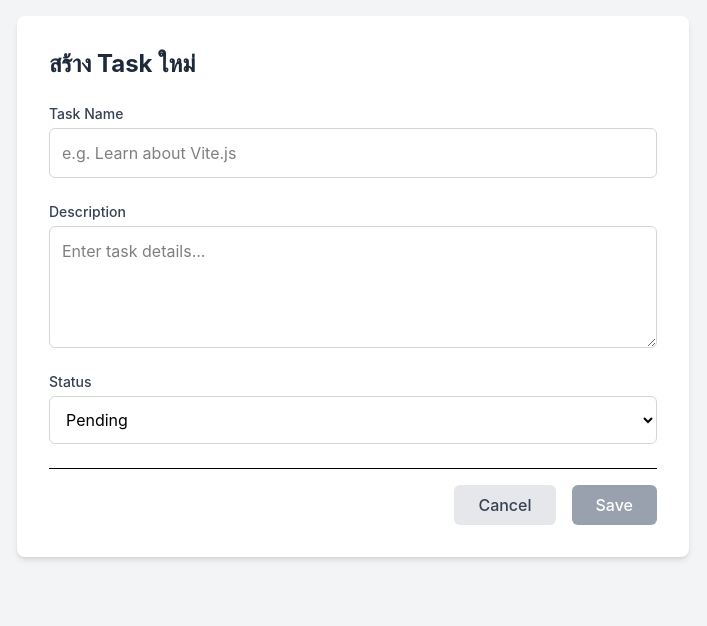
TaskFormPage Component › should display Error when data entered is too short
Type "ab" into the field with placeholder "e.g. Learn about Vite.js". click: point(353, 153)
box: top-left (49, 128), bottom-right (657, 178)
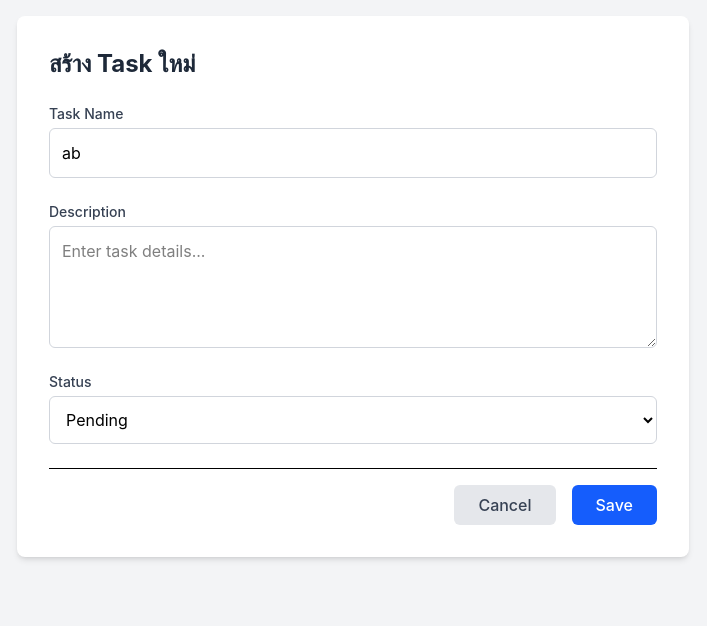
Type "short" into the text box with placeholder "Enter task details...". click: point(353, 287)
box: top-left (49, 226), bottom-right (657, 348)
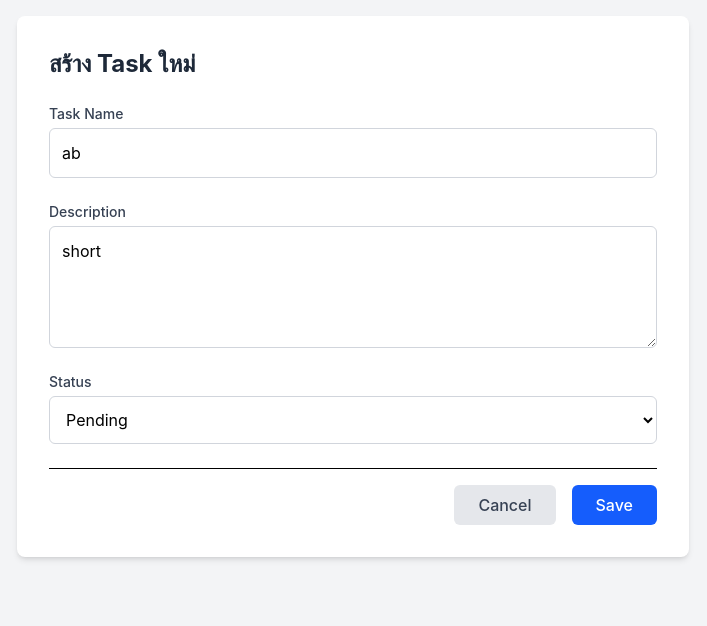
Leave the text box with placeholder "Enter task details...", box top-left (49, 226), bottom-right (657, 348)
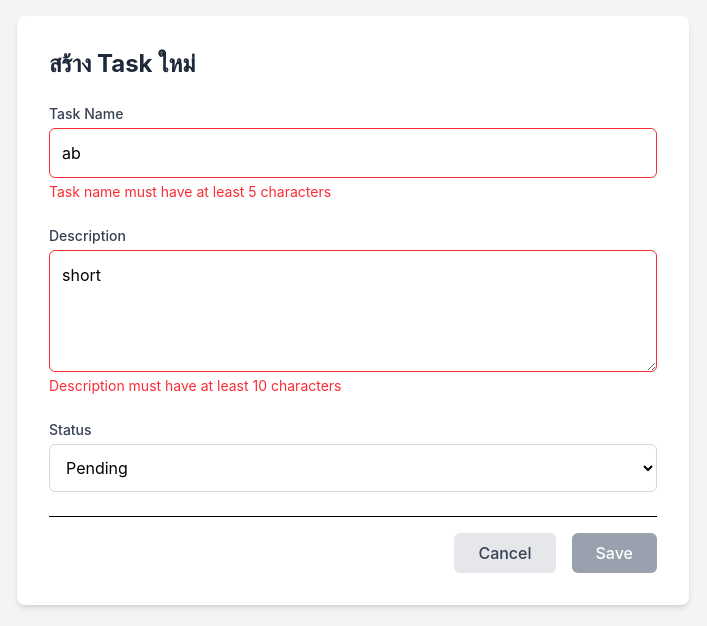
Result: the text "Task name must have at least 5 characters" is shown at top-left (49, 183), bottom-right (331, 200)
